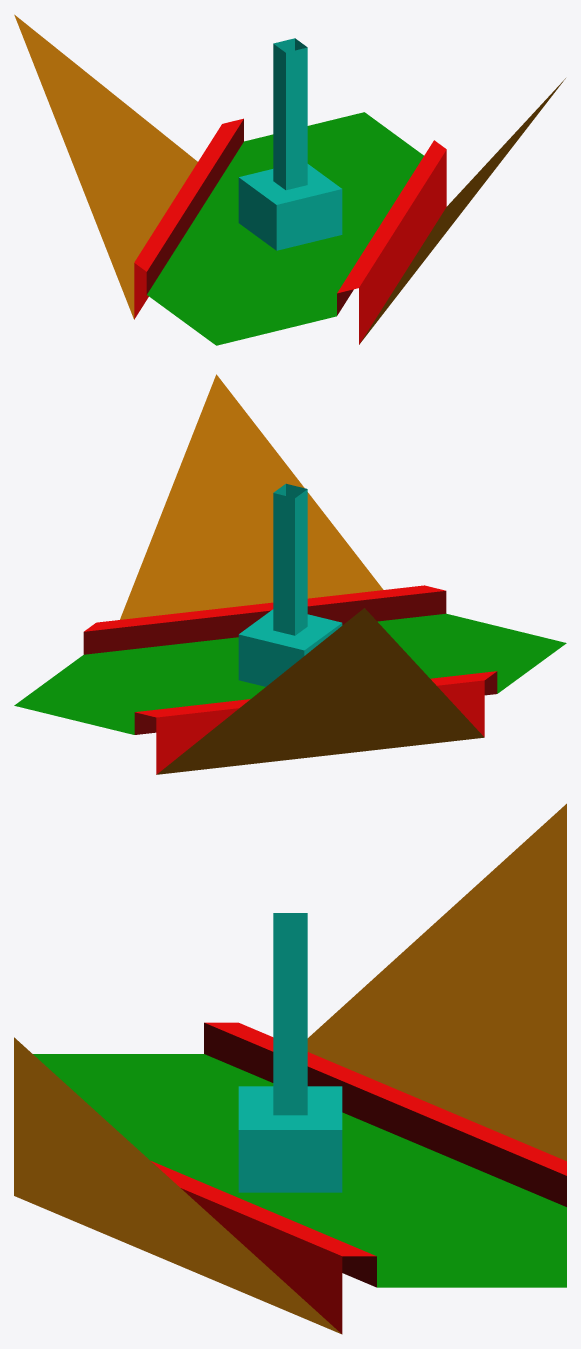
File: None_W_S_E_E_S_W_E_E_BigStrut.fbx
The picture shows the model from 3 angles, top to bottom: view 1: azimuth 30°, elevation 25°; view 2: azimuth 150°, elevation 25°; view 3: azimuth 270°, elevation 25°; orthographic projection. The views are drawn at different scales.
Visible parts, largest first — view 1: None_W_S_E_E_S_W_E_E_BigStrut; view 2: None_W_S_E_E_S_W_E_E_BigStrut; view 3: None_W_S_E_E_S_W_E_E_BigStrut.
Boxes of the visible parts, left/top/right/bottom form: None_W_S_E_E_S_W_E_E_BigStrut: left=14, top=14, right=565, bottom=345; None_W_S_E_E_S_W_E_E_BigStrut: left=14, top=374, right=566, bottom=774; None_W_S_E_E_S_W_E_E_BigStrut: left=14, top=803, right=566, bottom=1334.
Size of the model in its own units: 100 by 59.38 by 100.
